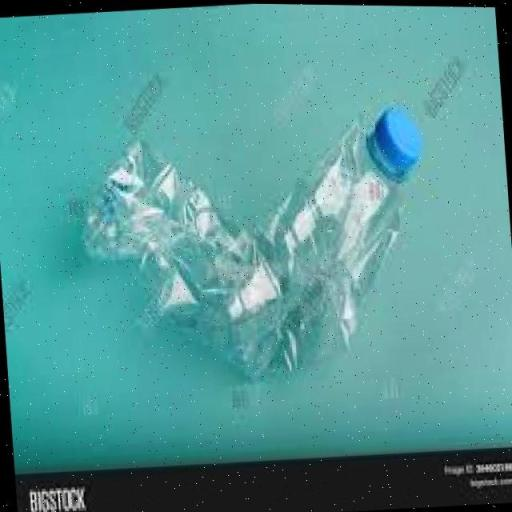plastic: (69, 82, 444, 399)
